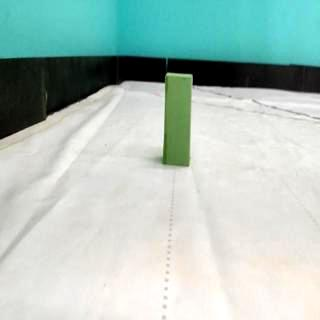greenbox: (162, 72, 196, 168)
